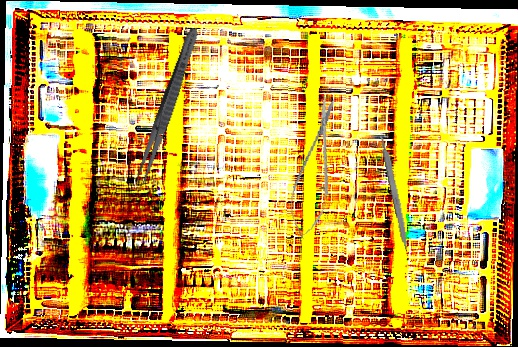Dressing Forceps: (132, 25, 203, 188)
Micro Scissor: (282, 91, 349, 243)
Scalpel Handle: (378, 133, 412, 251)
